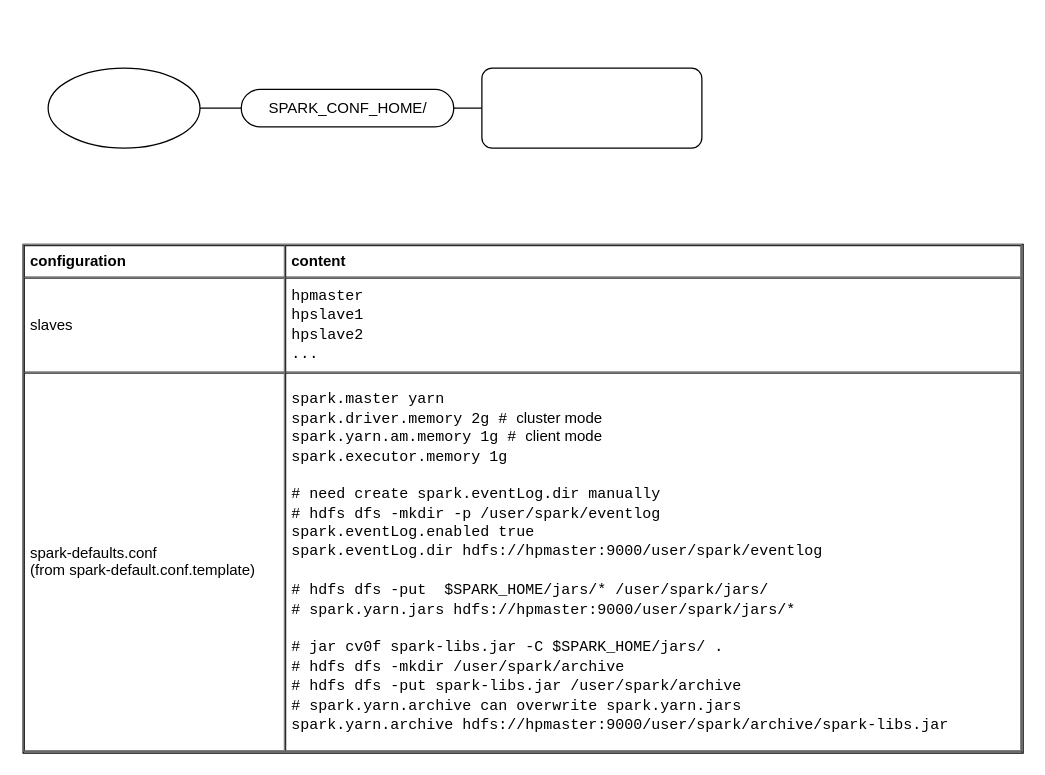
The diagram is 1045 pixels wide and 775 high, and some of its shapes have lost their labels. Each missing label, with the box of its shape:
slaves spark-defaults.conf: (481, 67, 702, 148)
spark configuration: (47, 67, 200, 148)
